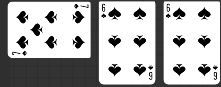6C: (147, 64, 155, 82)
7C: (73, 3, 90, 10)
